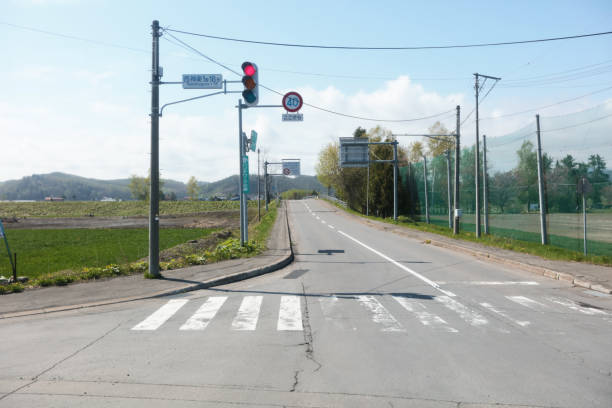trafficlight: (241, 61, 259, 107)
zebracross: (147, 291, 555, 346)
